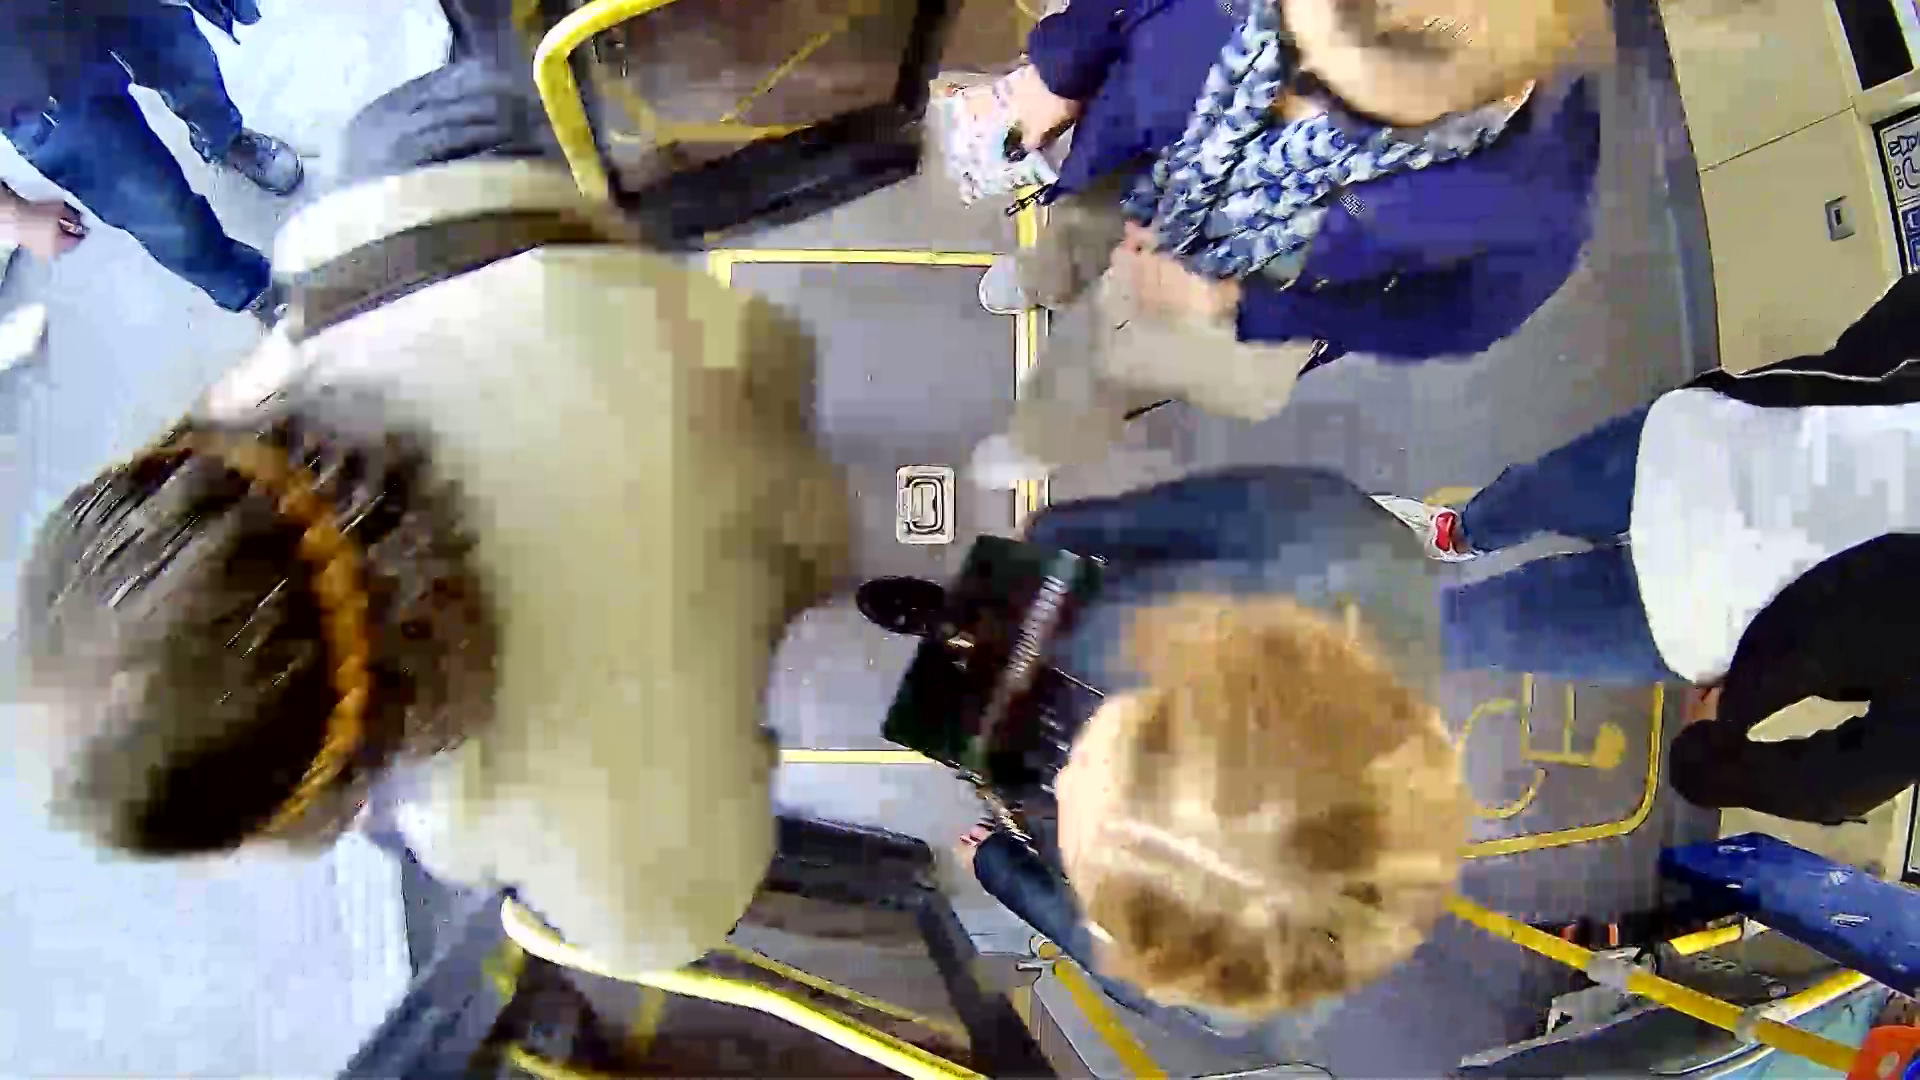person: (89, 274, 830, 946), (869, 415, 1577, 1055)
